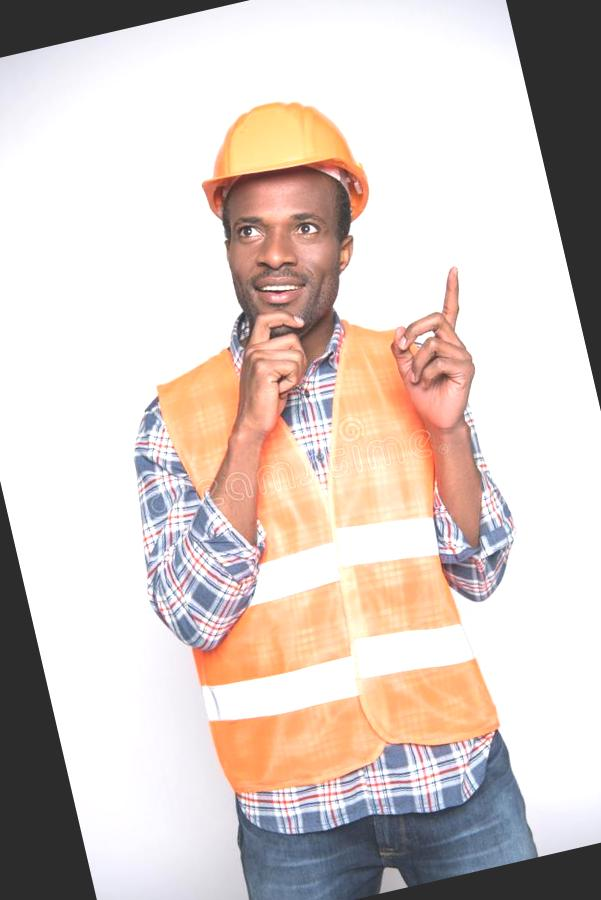helmet: (169, 79, 392, 250)
person: (41, 69, 596, 900)
